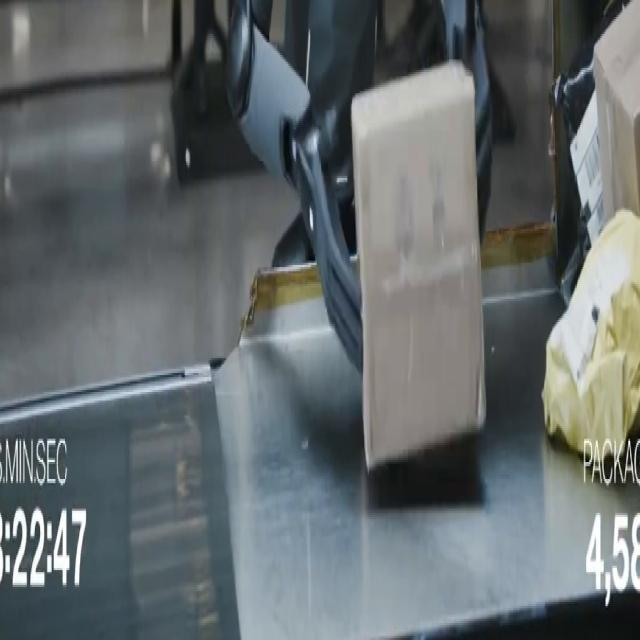package: (352, 62, 485, 468), (550, 0, 629, 305), (543, 210, 639, 453), (594, 0, 639, 222)
